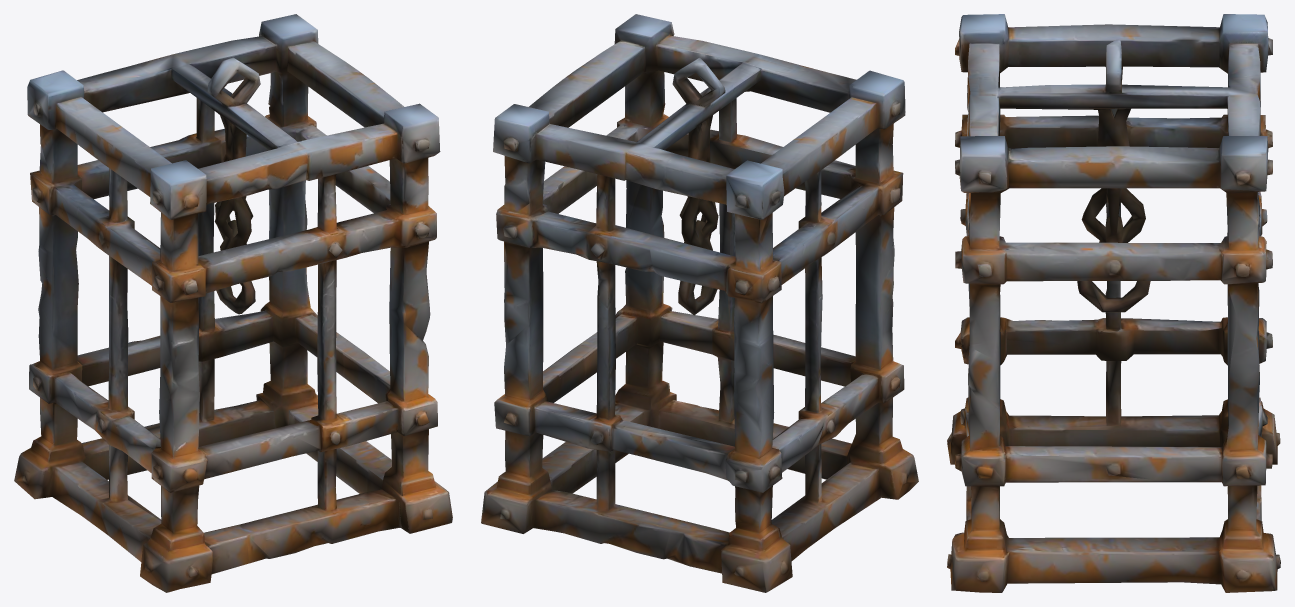
Rendered from cage.opt.glb.
3 renders of one model, left to right at view 1: azimuth 30°, elevation 25°; view 2: azimuth 150°, elevation 25°; view 3: azimuth 270°, elevation 25°, orthographic. The views are drawn at different scales.
Visible parts, largest first — view 1: node_0; view 2: node_0; view 3: node_0.
Part boxes in pixels (bbox=[...]): node_0: bbox=[14, 14, 452, 592]; node_0: bbox=[481, 14, 918, 592]; node_0: bbox=[947, 14, 1280, 592].
Bounding box in the file's own units: 0.6186 × 0.8822 × 0.5641.
Materials: 1 (1 with a texture image).
